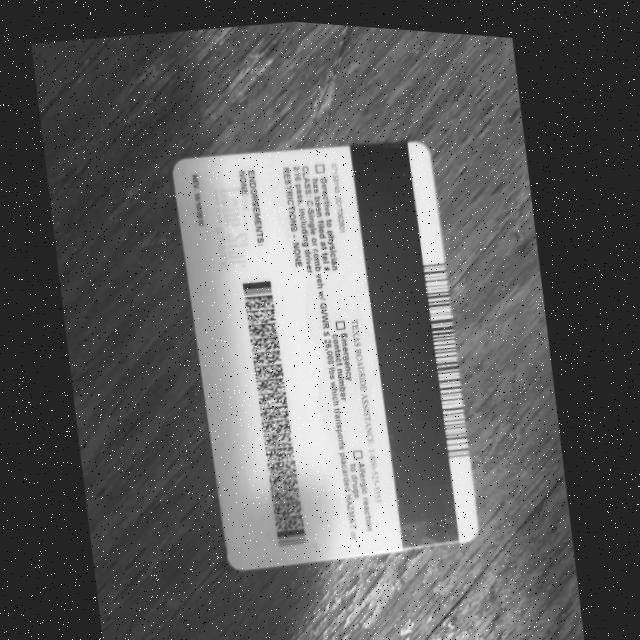card: (174, 143, 477, 569)
